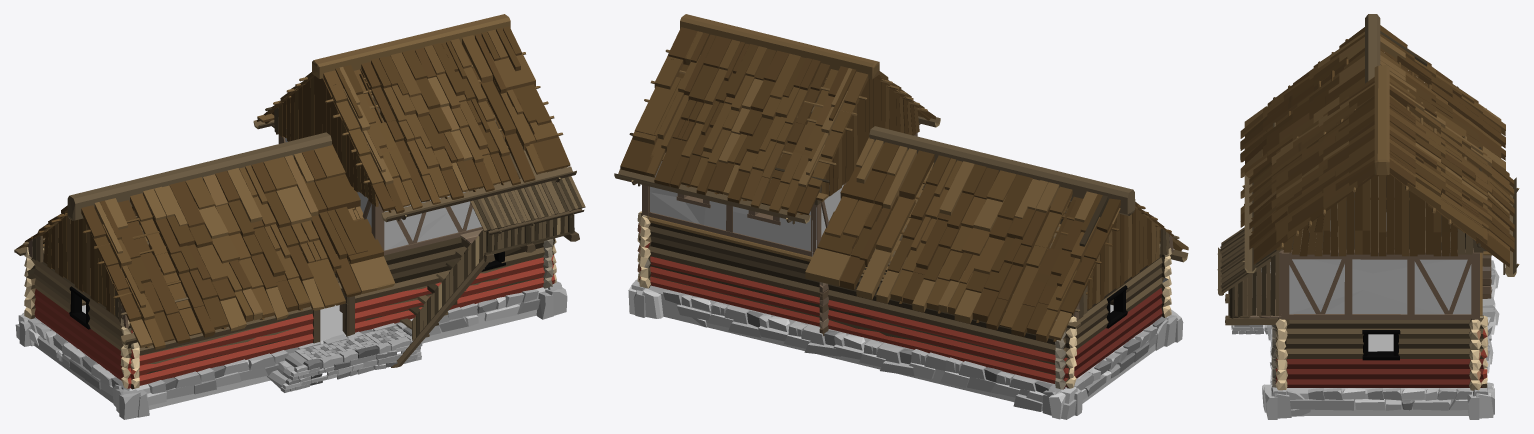
The model's file is EA03_Town_Building_Administrative _01a.glb.
3 renders of one model, left to right at view 1: azimuth 30°, elevation 25°; view 2: azimuth 150°, elevation 25°; view 3: azimuth 270°, elevation 25°, orthographic.
Parts seen in each view (by area): view 1: EA03_Town_Building_Administrative _01a; view 2: EA03_Town_Building_Administrative _01a; view 3: EA03_Town_Building_Administrative _01a.
Part boxes in pixels (box(x1,y1,x2,y2)): EA03_Town_Building_Administrative _01a: box(14, 14, 585, 419); EA03_Town_Building_Administrative _01a: box(614, 14, 1188, 419); EA03_Town_Building_Administrative _01a: box(1217, 14, 1519, 419).
Size of the model in its own units: 20.64 by 11.28 by 11.91.
Materials: 1 (1 with a texture image).
